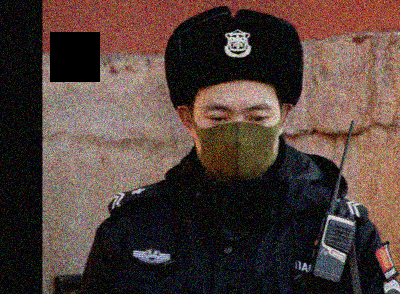with_mask: (194, 99, 283, 181)
